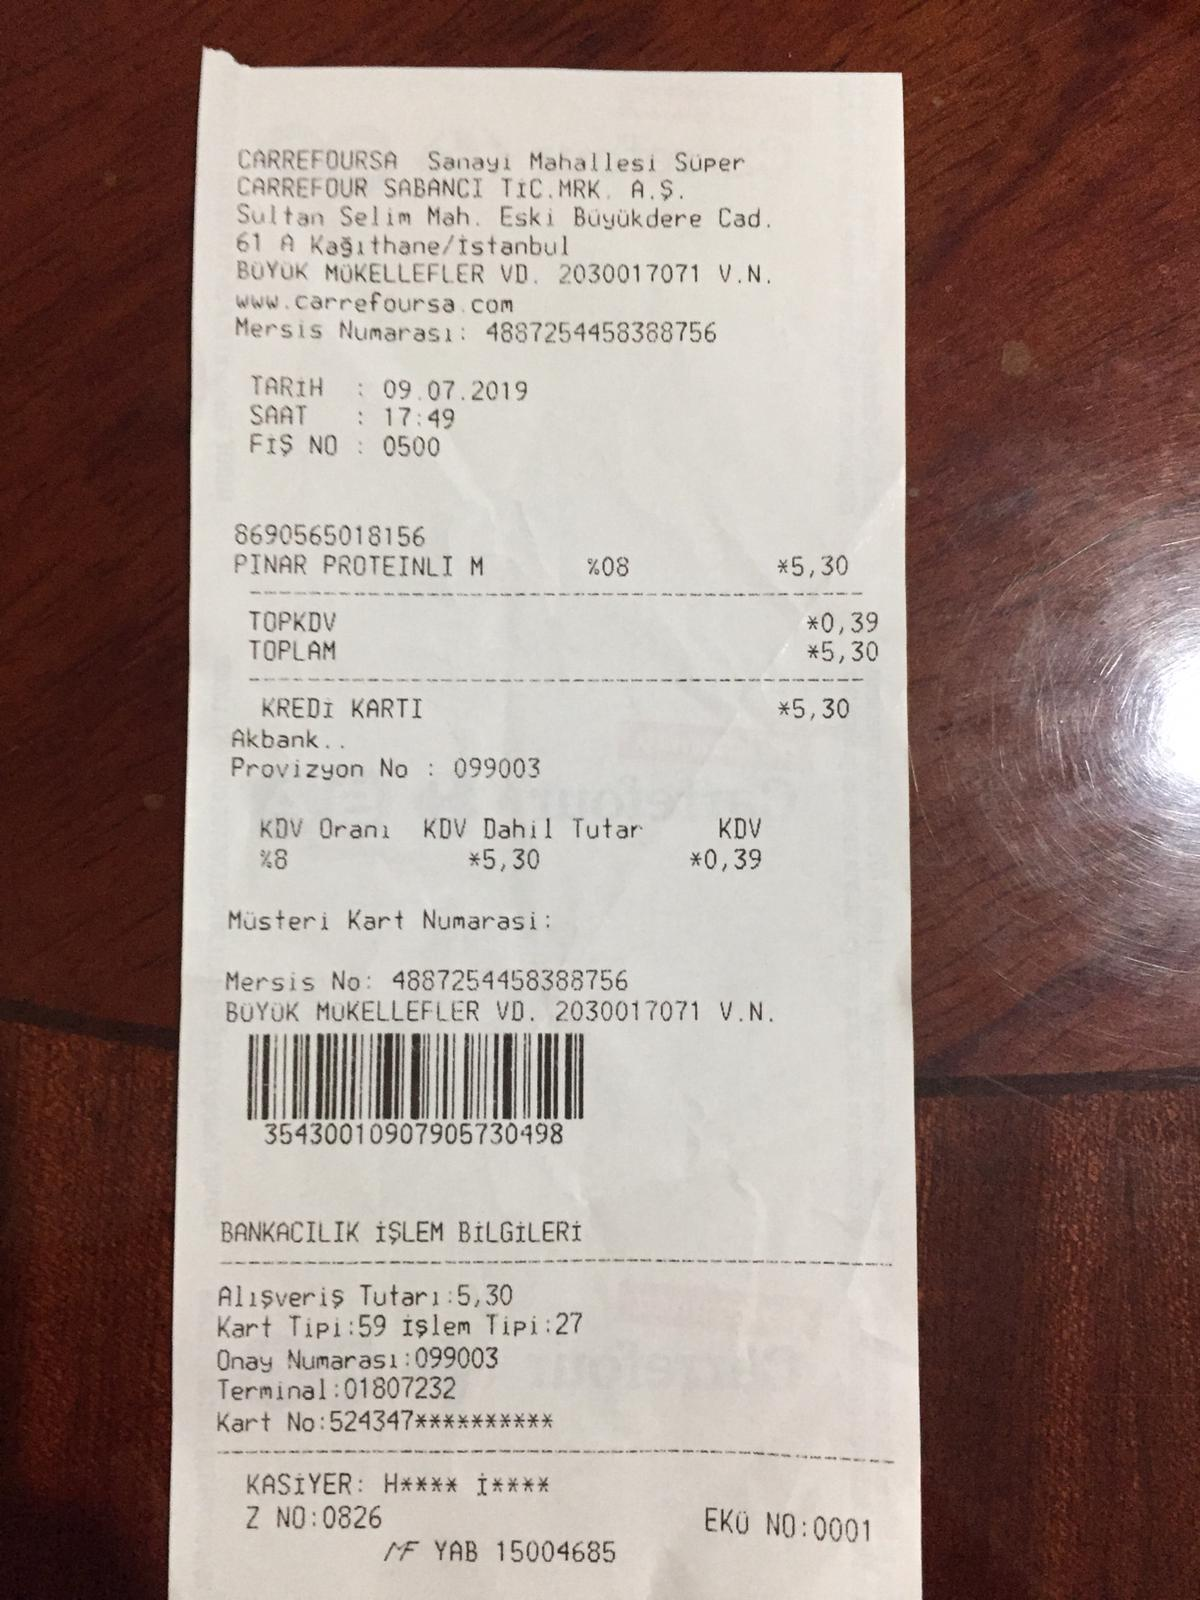total: (238, 633, 887, 672)
